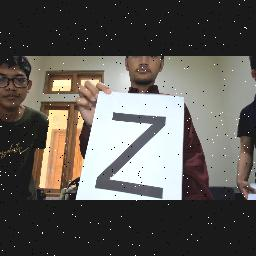z: (94, 104, 168, 200)
